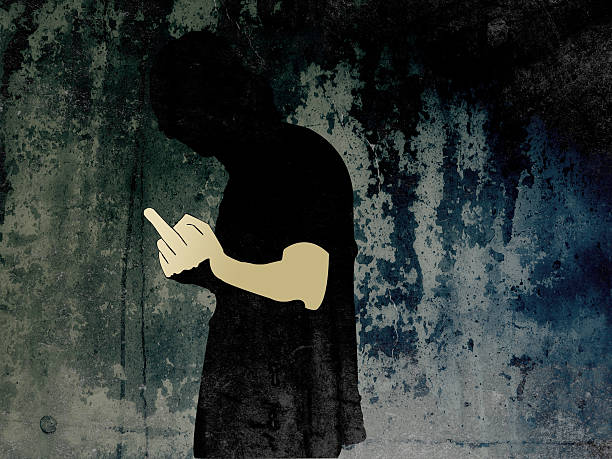insulting_gesture: (142, 204, 219, 289)
